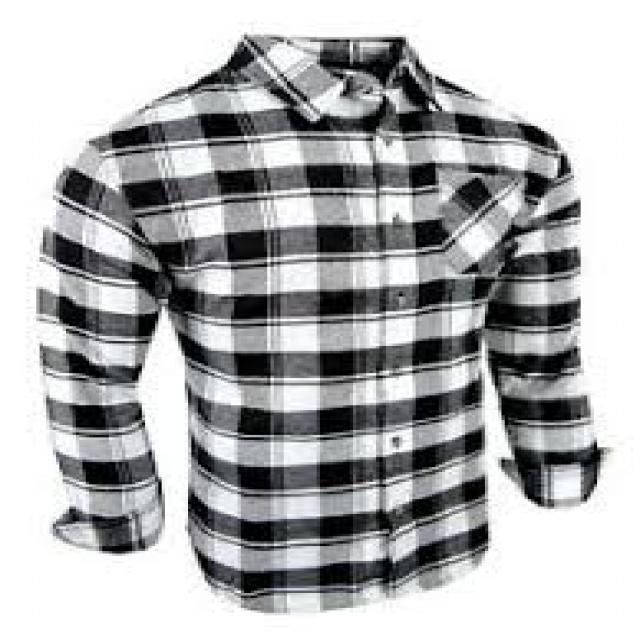plaid: (14, 33, 620, 616)
